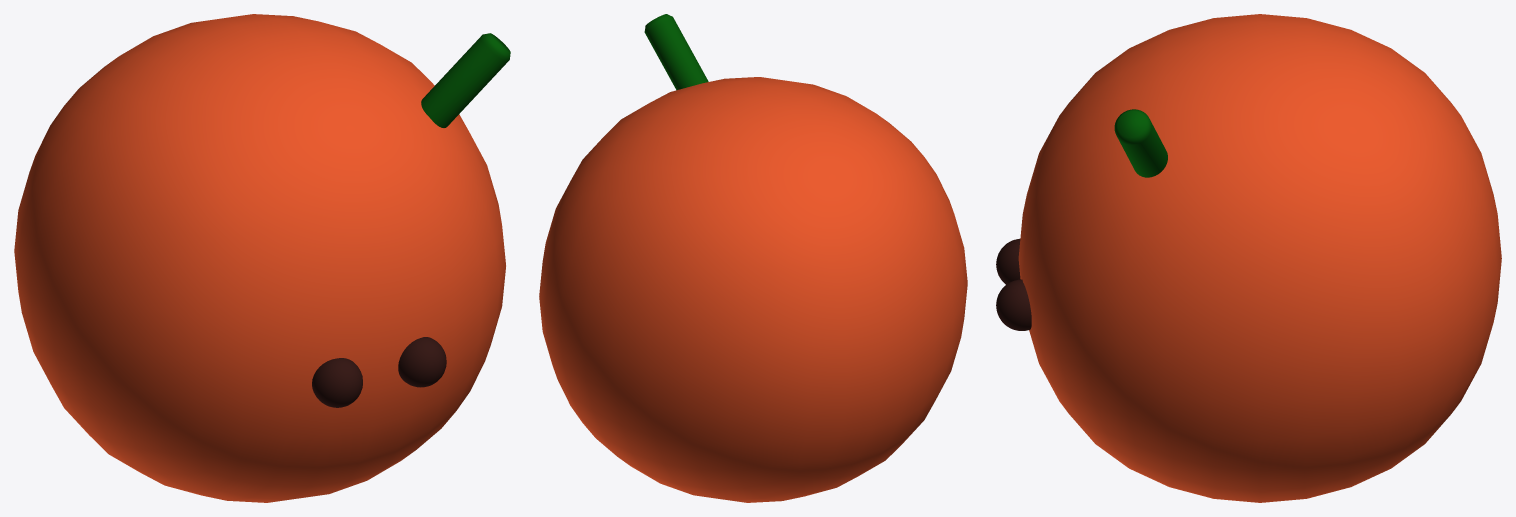
The model's file is HEAD 1 Animasi.fbx.
The picture shows the model from 3 angles, left to right: view 1: azimuth 30°, elevation 25°; view 2: azimuth 150°, elevation 25°; view 3: azimuth 270°, elevation 25°; orthographic projection. The views are drawn at different scales.
Parts seen in each view (by area): view 1: Cube.001, Sphere, Cylinder; view 2: Cube.001, Cylinder; view 3: Cube.001, Cylinder, Sphere.
Boxes of the visible parts, x1,y1,x2,y2 form: Cube.001: (14,14,505,502); Sphere: (312,337,446,407); Cylinder: (421,33,510,127); Cube.001: (539,77,967,502); Cylinder: (644,14,708,90); Cube.001: (1018,14,1501,502); Cylinder: (1114,109,1167,177); Sphere: (996,238,1031,330).
Bounding box in the file's own units: 244 × 250 × 256.
